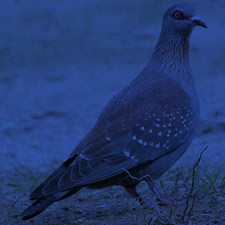pigeon: (20, 2, 209, 223)
